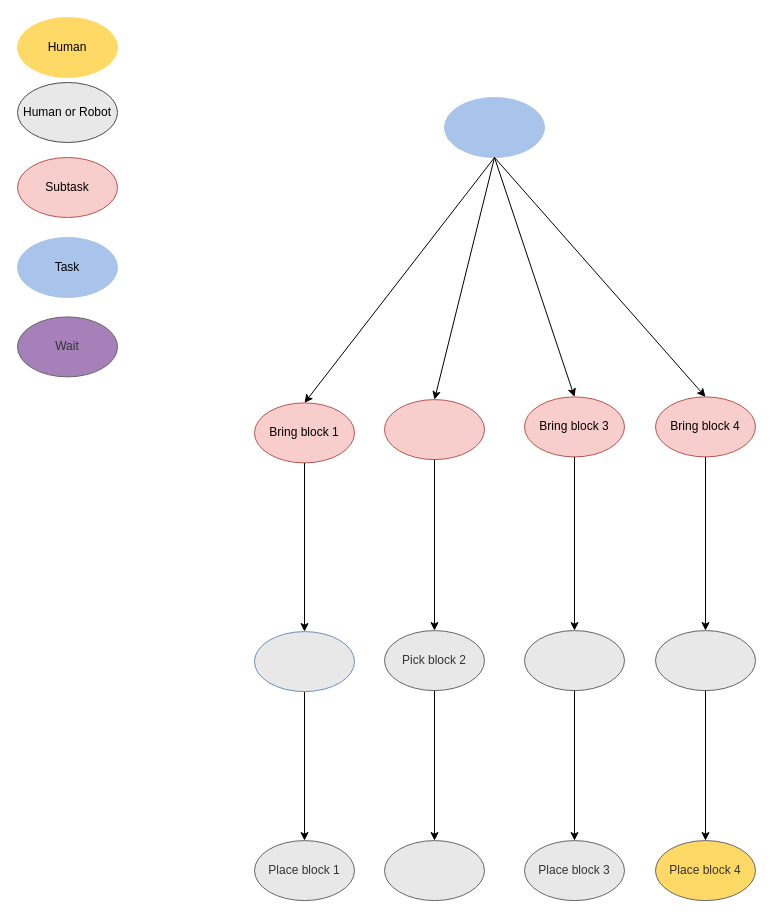
Image size: 773x919. Some labels were removed from this diagram. Each missing label, with the box of its shape:
Bring block 2: (384, 399, 484, 460)
Build tower ||: (444, 96, 544, 158)
Pick block 1: (254, 631, 354, 692)
Pick block 3: (524, 630, 624, 691)
Pick block 4: (654, 630, 756, 691)
Place block 2: (384, 840, 484, 901)
